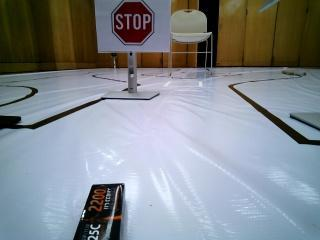stop: (104, 1, 167, 52)
